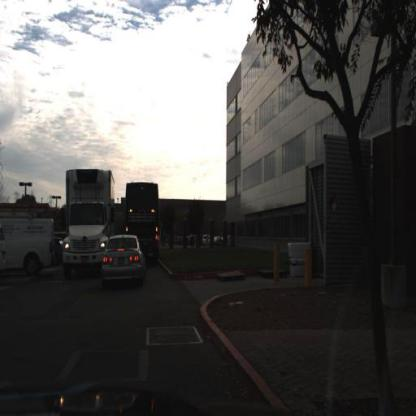car: (1, 215, 56, 279), (101, 233, 143, 282)
truck: (62, 166, 111, 281), (125, 180, 160, 255)
